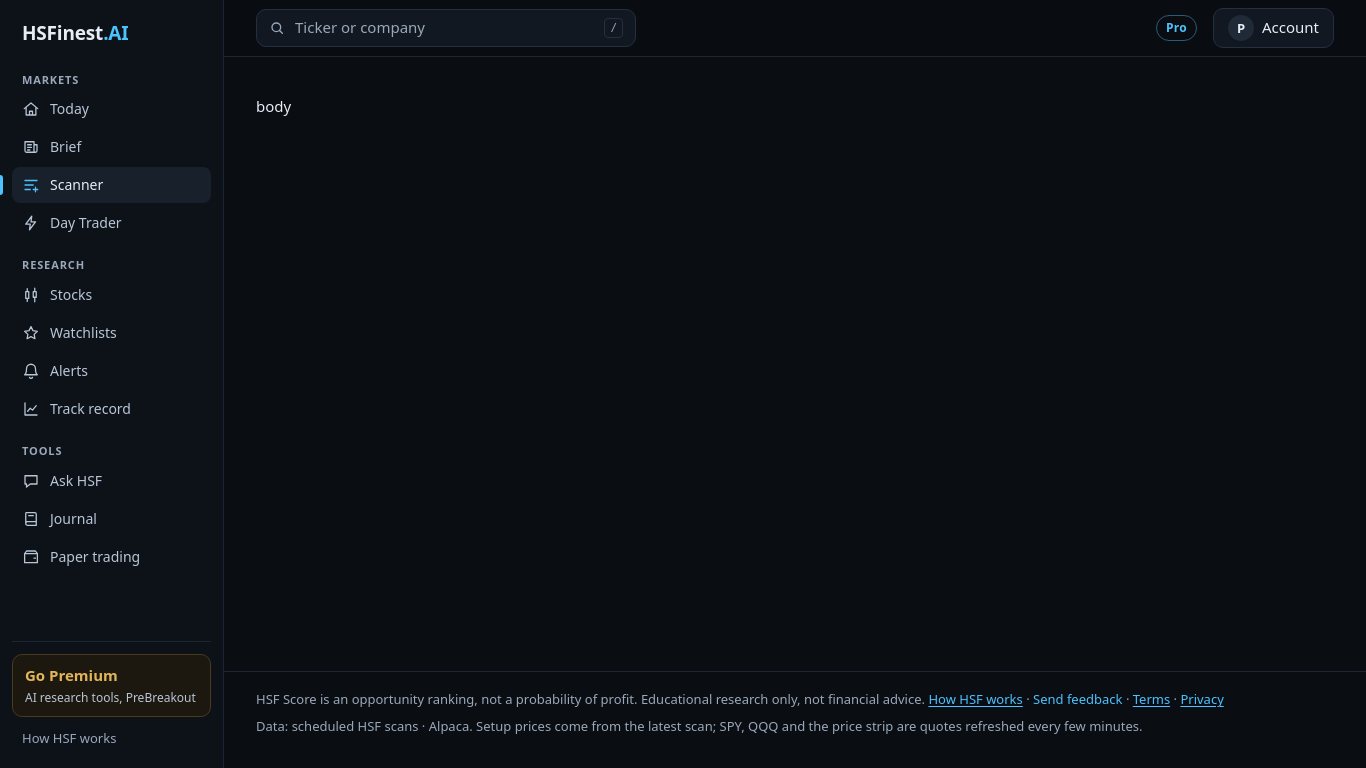
Test: Alerts badge and feedback › sends feedback with the page it came from
Click the button "Send feedback". click: (1078, 700)
box: [1033, 690, 1122, 709]
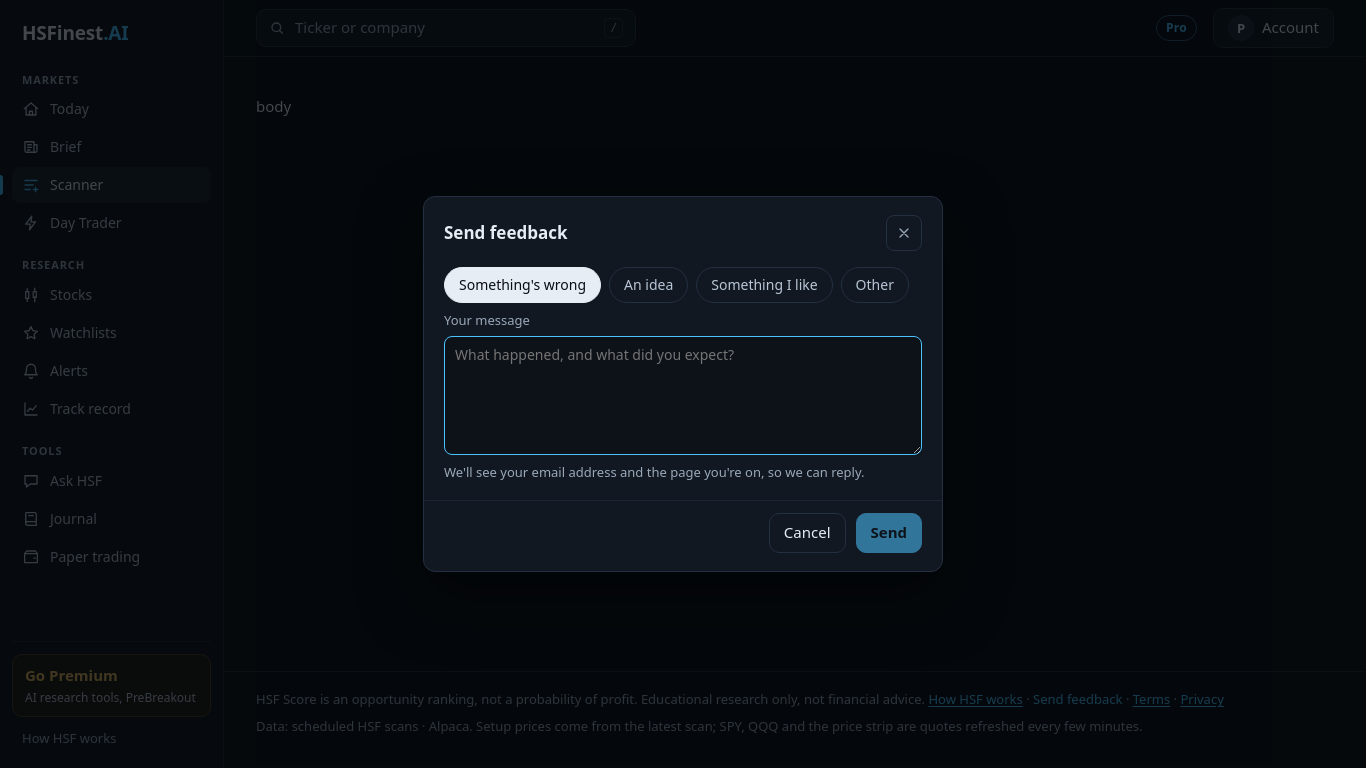
Click the radio button labelled "An idea". click: (649, 285)
box: [609, 267, 688, 303]
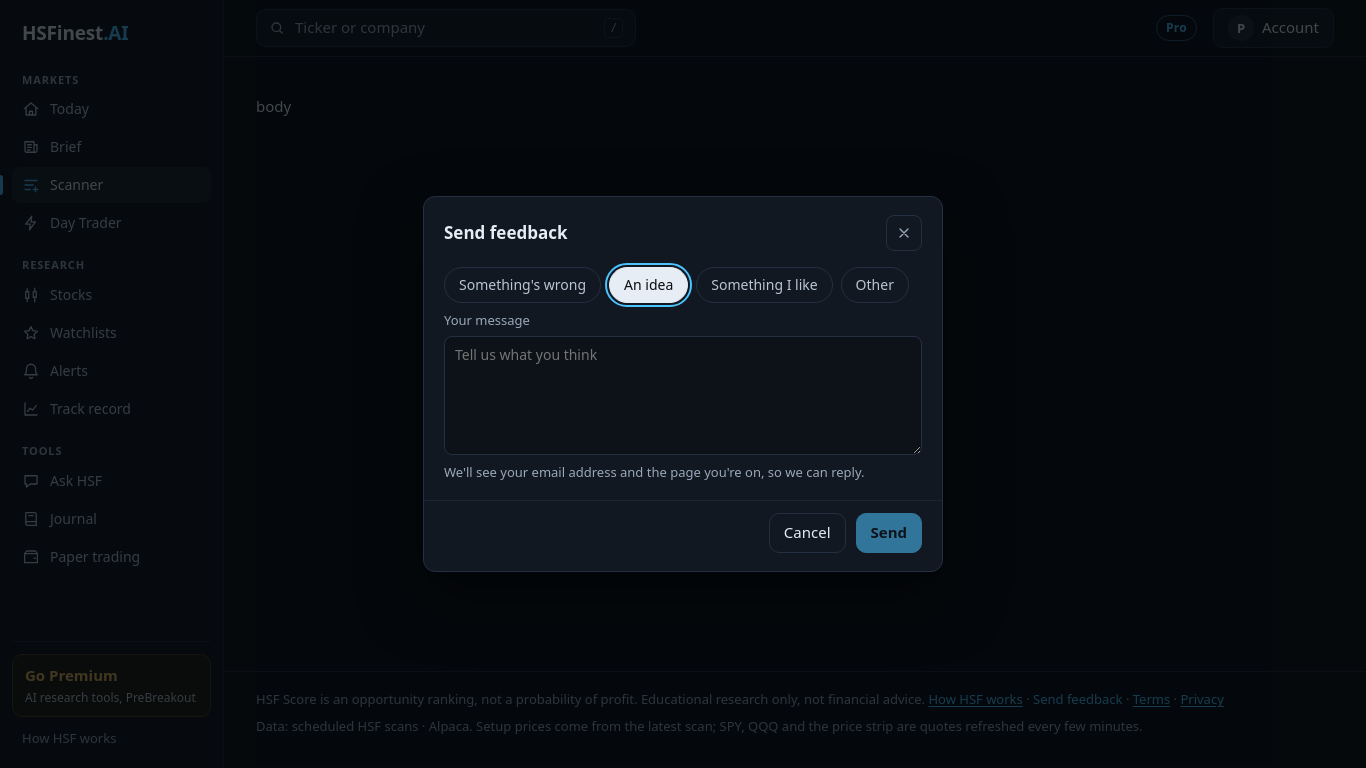
Type "Dark charts please" into the text box labelled "Your message". click: (683, 396)
box: [444, 336, 922, 455]
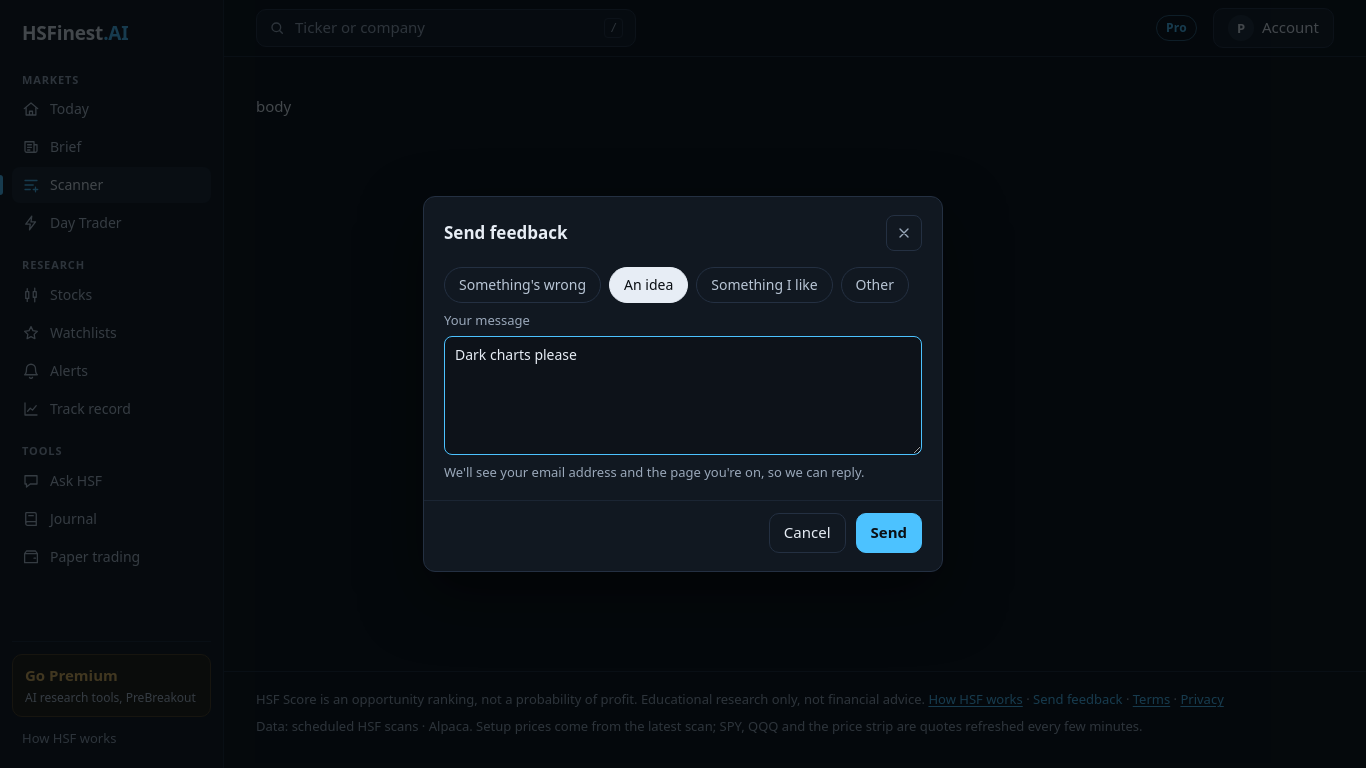
Click the button "Send". click: (889, 533)
box: [856, 513, 922, 553]
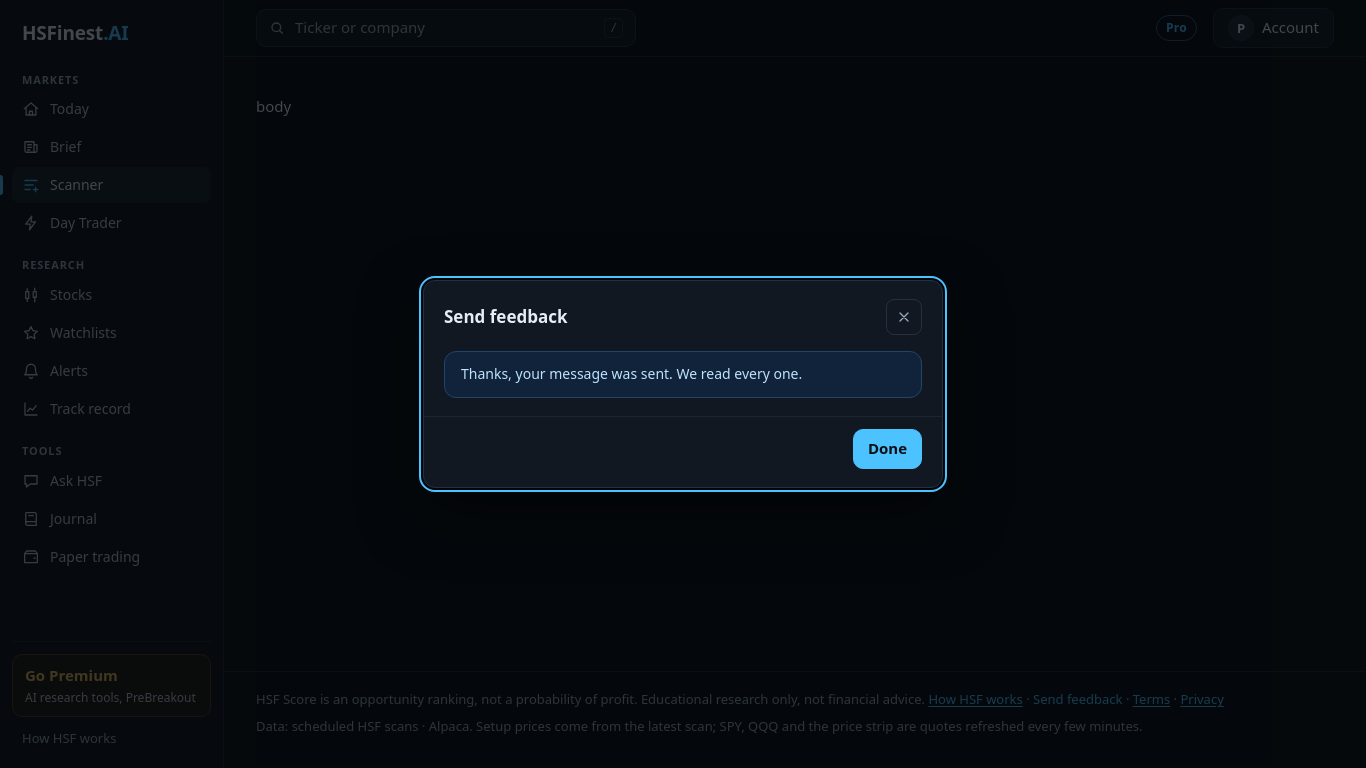
Expected: the text "Thanks, your message was sent. We read every one." is shown, [444, 351, 922, 398]
